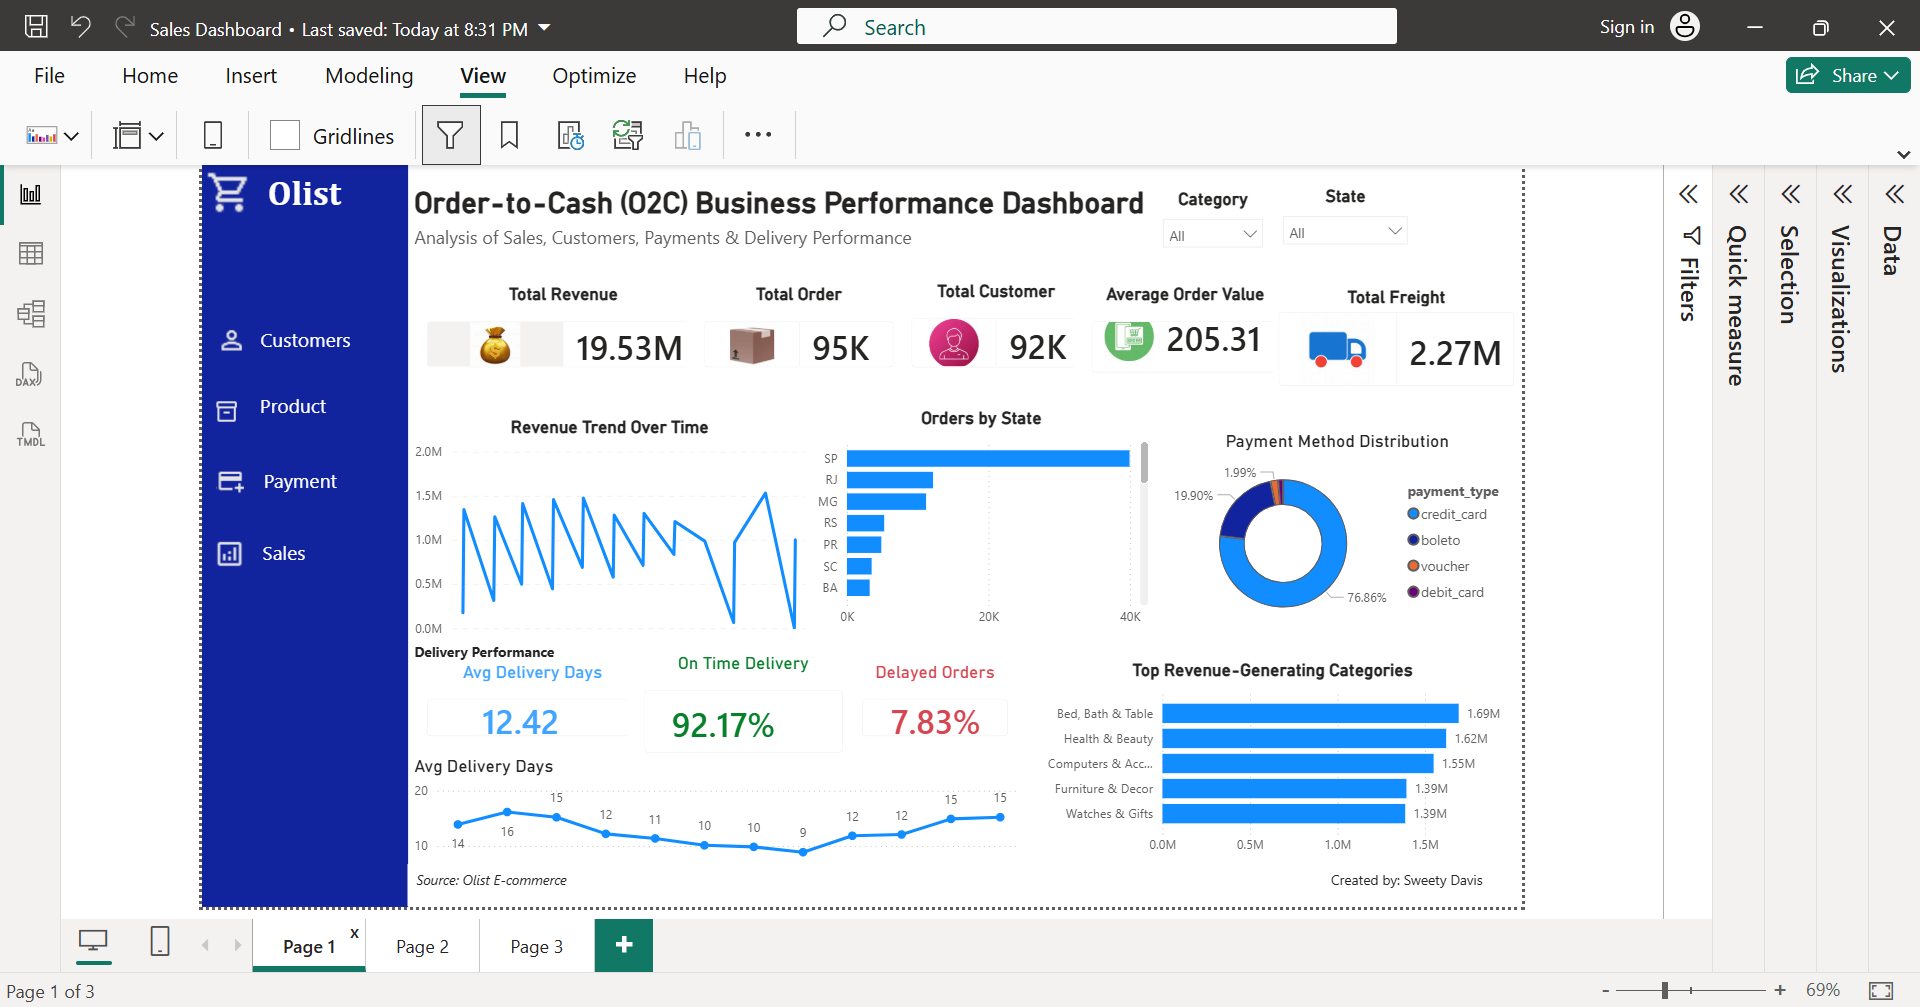

The dashboard page shown, as its layout file describes it:
{"tool":"powerbi","page":{"name":"Page 1","canvas":[1280,720],"ordinal":0},"visuals":[{"type":"cardVisual","title":"Total Revenue","fields":{"Data":["Brazilian E-Commerce Public Dataset by Olist (2).Total_Revenue"]},"box":[201,115.7,299.6,98.6],"z":0},{"type":"cardVisual","title":"Total Order","fields":{"Data":["Brazilian E-Commerce Public Dataset by Olist (2).Total Orders"]},"box":[470.3,115.7,218.1,98.6],"z":1000},{"type":"textbox","title":"                                           ","box":[0,0,200,720],"z":2000},{"type":"textbox","title":"Order-to-Cash (O2C) Business Performance Dashboard","box":[201,20.9,722.5,91],"z":3000},{"type":"actionButton","box":[0,149.5,201,38.7],"z":4000},{"type":"actionButton","box":[0,213.9,201,43.8],"z":5000},{"type":"actionButton","box":[0,275.8,201,61.9],"z":6000},{"type":"cardVisual","title":"Total Customer","fields":{"Data":["Brazilian E-Commerce Public Dataset by Olist (2).Total Customers"]},"box":[670.4,111.7,199.2,102],"z":7000},{"type":"cardVisual","title":"Average Order Value","fields":{"Data":["Brazilian E-Commerce Public Dataset by Olist (2).Average Order Value"]},"box":[845.2,115,217,103.6],"z":8000},{"type":"cardVisual","title":"Total Freight","fields":{"Data":["Brazilian E-Commerce Public Dataset by Olist (2).Total Freight Cost"]},"box":[1039.5,118.2,239.6,102],"z":9000},{"type":"lineChart","title":"Revenue Trend Over Time","fields":{"Category":["Brazilian E-Commerce Public Dataset by Olist (2).month/year_of_purchase.Variation.Date Hierarchy.Year","Brazilian E-Commerce Public Dataset by Olist (2).month/year_of_purchase.Variation.Date Hierarchy.Quarter","Brazilian E-Commerce Public Dataset by Olist (2).month/year_of_purchase.Variation.Date Hierarchy.Month","Brazilian E-Commerce Public Dataset by Olist (2).month/year_of_purchase.Variation.Date Hierarchy.Day"],"Y":["Brazilian E-Commerce Public Dataset by Olist (2).Total_Revenue"]},"box":[200.8,244.4,389.6,227.4],"z":10000},{"type":"clusteredBarChart","title":"Orders by State","fields":{"Category":["Brazilian E-Commerce Public Dataset by Olist (2).customer_state"],"Y":["Brazilian E-Commerce Public Dataset by Olist (2).Total Orders"]},"box":[589.4,236.4,333.6,220.2],"z":11000},{"type":"donutChart","title":"Payment Method Distribution","fields":{"Y":["Brazilian E-Commerce Public Dataset by Olist (2).Total_Revenue"],"Category":["Brazilian E-Commerce Public Dataset by Olist (2).payment_type"]},"box":[923,257.5,357.8,199.2],"z":12000},{"type":"textbox","box":[200.8,456.6,438.8,263.9],"z":13000},{"type":"cardVisual","title":"Avg Delivery Days ","fields":{"Data":["Avg(Brazilian E-Commerce Public Dataset by Olist (2).Delivery Days)"]},"box":[200.2,481.6,239.9,90.2],"z":14000},{"type":"cardVisual","title":"On Time Delivery","fields":{"Data":["Brazilian E-Commerce Public Dataset by Olist (2).On Time %"]},"box":[411.9,473.1,227.1,115],"z":15000},{"type":"cardVisual","title":"Delayed Orders","fields":{"Data":["Brazilian E-Commerce Public Dataset by Olist (2).Delayed %"]},"box":[622.3,481.6,176.8,90.2],"z":16000},{"type":"lineChart","title":"Avg Delivery Days","fields":{"Category":["Brazilian E-Commerce Public Dataset by Olist (2).month/year_of_purchase.Variation.Date Hierarchy.Month"],"Y":["Brazilian E-Commerce Public Dataset by Olist (2).Avg Delivery Days"]},"box":[200.8,573.2,597.5,119.8],"z":17000},{"type":"clusteredBarChart","title":"Top Revenue-Generating Categories","fields":{"Y":["Brazilian E-Commerce Public Dataset by Olist (2).Total_Revenue"],"Category":["Brazilian E-Commerce Public Dataset by Olist (2).Category_English"]},"box":[798.3,480.9,482.5,197.5],"z":18000},{"type":"slicer","title":"Category","fields":{"Values":["Brazilian E-Commerce Public Dataset by Olist (2).product_category_name"]},"box":[923,22.7,116.6,63.1],"z":19000},{"type":"actionButton","box":[0,0,199.1,53.1],"z":20000},{"type":"textbox","box":[199.2,678.5,1081.6,40.5],"z":21000},{"type":"actionButton","box":[0,356.5,199.1,39.8],"z":22000},{"type":"slicer","title":"State","fields":{"Values":["Brazilian E-Commerce Public Dataset by Olist (2).customer_state"]},"box":[1039.5,21,140.9,66.4],"z":23000}]}

Visuals, with their boxes on the page's 1280x720 design canvas (x1, y1, x2, y2). These are canvas units, not pixel positions in the 1920x1007 screenshot, which may show the page scaled, cropped or inside an application window:
"Total Revenue" cardVisual: box(201, 116, 501, 214)
"Total Order" cardVisual: box(470, 116, 688, 214)
"                                           " textbox: box(0, 0, 200, 720)
"Order-to-Cash (O2C) Business Performance Dashboard" textbox: box(201, 21, 924, 112)
actionButton: box(0, 150, 201, 188)
actionButton: box(0, 214, 201, 258)
actionButton: box(0, 276, 201, 338)
"Total Customer" cardVisual: box(670, 112, 870, 214)
"Average Order Value" cardVisual: box(845, 115, 1062, 219)
"Total Freight" cardVisual: box(1040, 118, 1279, 220)
"Revenue Trend Over Time" lineChart: box(201, 244, 590, 472)
"Orders by State" clusteredBarChart: box(589, 236, 923, 457)
"Payment Method Distribution" donutChart: box(923, 258, 1281, 457)
textbox: box(201, 457, 640, 720)
"Avg Delivery Days " cardVisual: box(200, 482, 440, 572)
"On Time Delivery" cardVisual: box(412, 473, 639, 588)
"Delayed Orders" cardVisual: box(622, 482, 799, 572)
"Avg Delivery Days" lineChart: box(201, 573, 798, 693)
"Top Revenue-Generating Categories" clusteredBarChart: box(798, 481, 1281, 678)
"Category" slicer: box(923, 23, 1040, 86)
actionButton: box(0, 0, 199, 53)
textbox: box(199, 678, 1281, 719)
actionButton: box(0, 356, 199, 396)
"State" slicer: box(1040, 21, 1180, 87)
